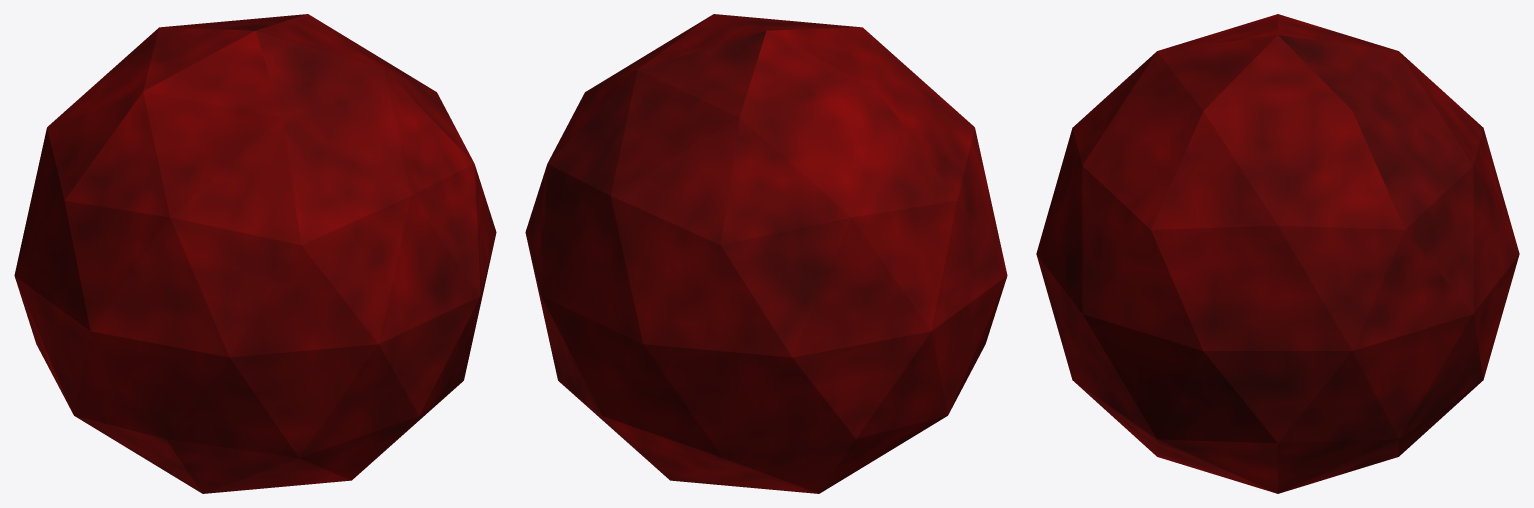
The model's file is EnemyBullet.obj.
The picture shows the model from 3 angles, left to right: view 1: azimuth 30°, elevation 25°; view 2: azimuth 150°, elevation 25°; view 3: azimuth 270°, elevation 25°; orthographic projection.
Parts seen in each view (by area): view 1: ICO球; view 2: ICO球; view 3: ICO球.
Part boxes in pixels (<box>): ICO球: <box>14,14,496,493</box>; ICO球: <box>525,14,1007,493</box>; ICO球: <box>1036,14,1519,493</box>.
Bounding box in the file's own units: 0.9511 × 1 × 1.
Materials: 1 (1 with a texture image).
